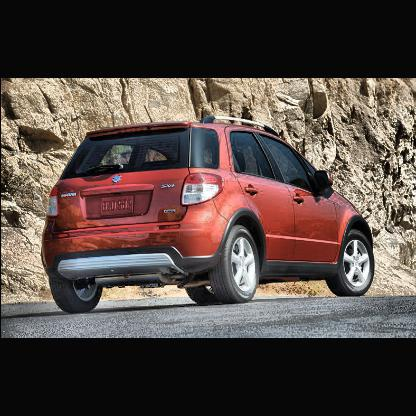Suzuki SX4 Hatchback 2012: (37, 116, 378, 317)
